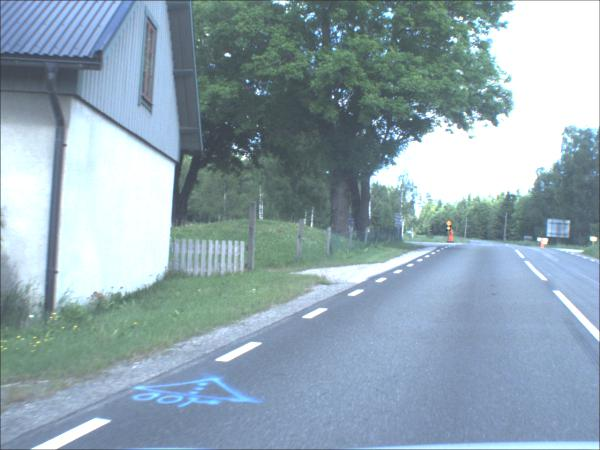80_SIGN: (447, 221, 453, 228)
PRIORITY_ROAD: (446, 227, 452, 233)
